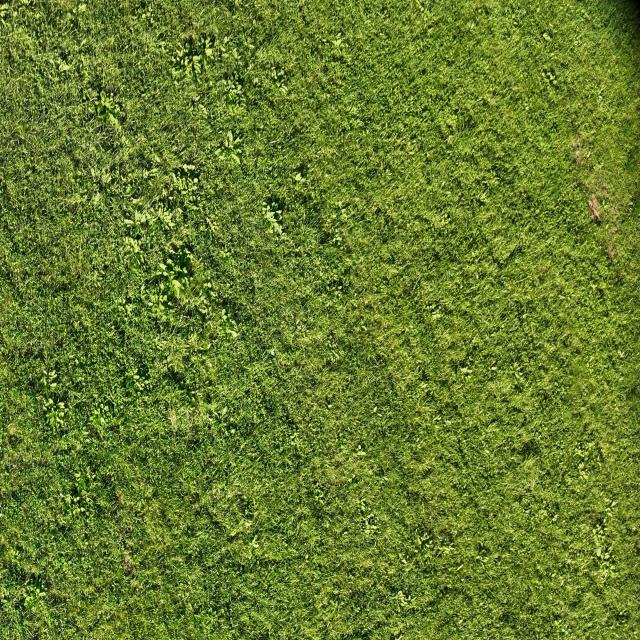rumex: (263, 184, 340, 312), (438, 342, 523, 452), (95, 345, 161, 431), (208, 56, 258, 151), (264, 152, 316, 237), (319, 188, 365, 257), (311, 313, 357, 375), (566, 433, 611, 495), (158, 167, 201, 225), (127, 2, 167, 52), (586, 508, 618, 569), (65, 459, 100, 514), (110, 294, 148, 344), (320, 453, 364, 494), (160, 326, 192, 378), (128, 200, 166, 237), (22, 575, 51, 617), (450, 130, 484, 162), (319, 28, 350, 62), (497, 236, 527, 269), (210, 308, 238, 343), (222, 72, 245, 114), (268, 66, 290, 100), (167, 246, 192, 275), (194, 34, 213, 72), (95, 92, 118, 121), (123, 368, 148, 394), (180, 51, 200, 80), (197, 121, 222, 140), (541, 66, 559, 92), (188, 303, 208, 326), (64, 192, 89, 210), (147, 270, 172, 288), (88, 410, 109, 431), (431, 211, 452, 232), (149, 293, 168, 316), (333, 200, 351, 218), (75, 472, 89, 494), (572, 445, 589, 463), (482, 92, 500, 109), (133, 209, 149, 226), (126, 238, 142, 255), (168, 276, 182, 295), (50, 413, 65, 430), (294, 170, 309, 186), (7, 421, 22, 437), (184, 35, 196, 54), (265, 221, 280, 236), (24, 592, 39, 607), (476, 541, 490, 557), (246, 542, 258, 560), (438, 544, 454, 557), (57, 60, 70, 76), (396, 592, 409, 608), (458, 366, 472, 380), (444, 116, 456, 132), (109, 116, 121, 132), (0, 3, 11, 20), (89, 166, 101, 181), (250, 536, 261, 552), (446, 134, 458, 148), (219, 249, 232, 261), (176, 163, 190, 174), (242, 519, 253, 533), (514, 370, 524, 385), (588, 281, 600, 293), (479, 192, 490, 205), (359, 499, 369, 513), (91, 191, 101, 205), (206, 34, 216, 48), (97, 103, 107, 117), (226, 129, 233, 148), (133, 197, 145, 208), (355, 447, 367, 458), (430, 311, 442, 322), (90, 96, 101, 107), (158, 293, 168, 305), (349, 106, 359, 118), (152, 152, 162, 164), (202, 340, 212, 352), (230, 47, 239, 60), (220, 404, 228, 418), (47, 371, 57, 382), (205, 360, 214, 372), (168, 172, 177, 184), (222, 36, 231, 48), (73, 483, 80, 498), (627, 199, 635, 212), (141, 12, 151, 22), (542, 32, 552, 42), (77, 3, 87, 13), (618, 608, 628, 618), (214, 147, 224, 157), (158, 261, 167, 272), (220, 312, 228, 324), (64, 496, 72, 508), (203, 280, 212, 290), (57, 402, 65, 413), (122, 218, 134, 225), (456, 563, 465, 572), (335, 236, 343, 246), (550, 513, 558, 523), (131, 374, 140, 382), (618, 349, 626, 358), (49, 382, 58, 390), (47, 397, 55, 406), (596, 546, 602, 558), (585, 149, 592, 159), (38, 590, 46, 598), (596, 93, 603, 102), (372, 406, 379, 415), (229, 427, 236, 436), (142, 169, 149, 178), (252, 77, 259, 86), (357, 444, 363, 453), (440, 181, 446, 190), (276, 208, 282, 216), (193, 177, 199, 185), (353, 196, 359, 204), (327, 403, 333, 410), (446, 416, 452, 422)
